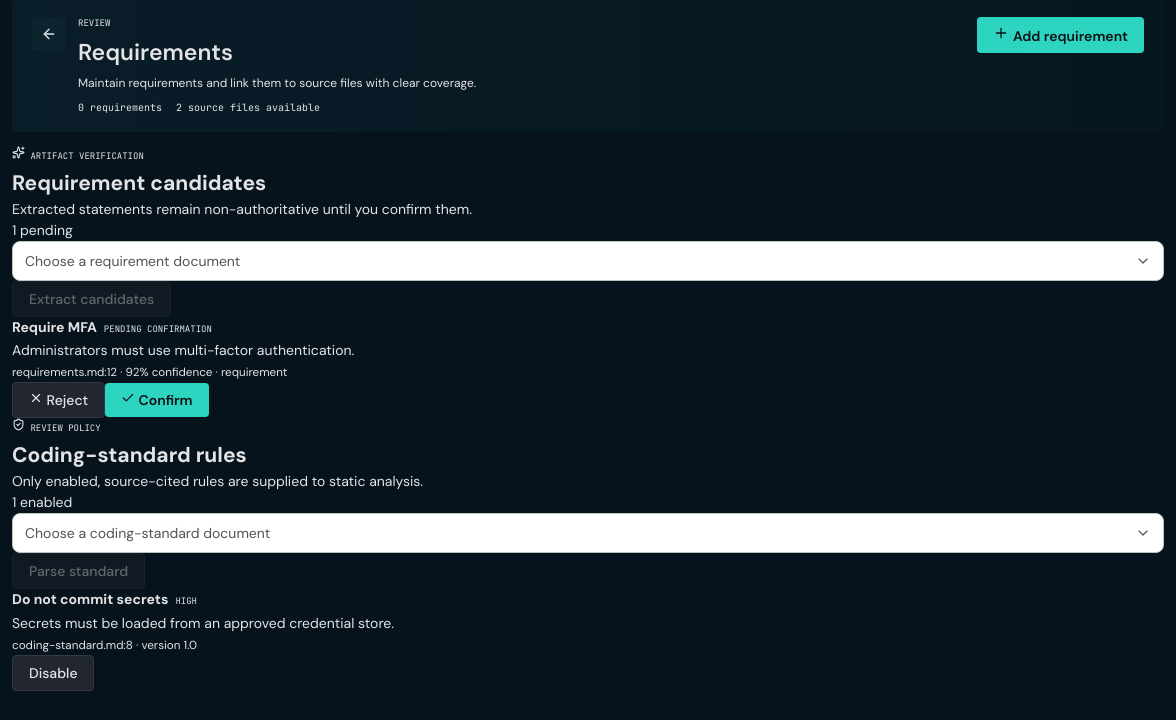
Test: RequirementsScreen grounding workspace › makes enabled coding standards visible and lets reviewers disable them
Expected: the text "Do not commit secrets" is shown, [12,590,168,608]
Expected: the text "1 enabled" is shown, [12,493,72,511]
Click the button "Disable" at (53, 672), box [12,654,94,690]
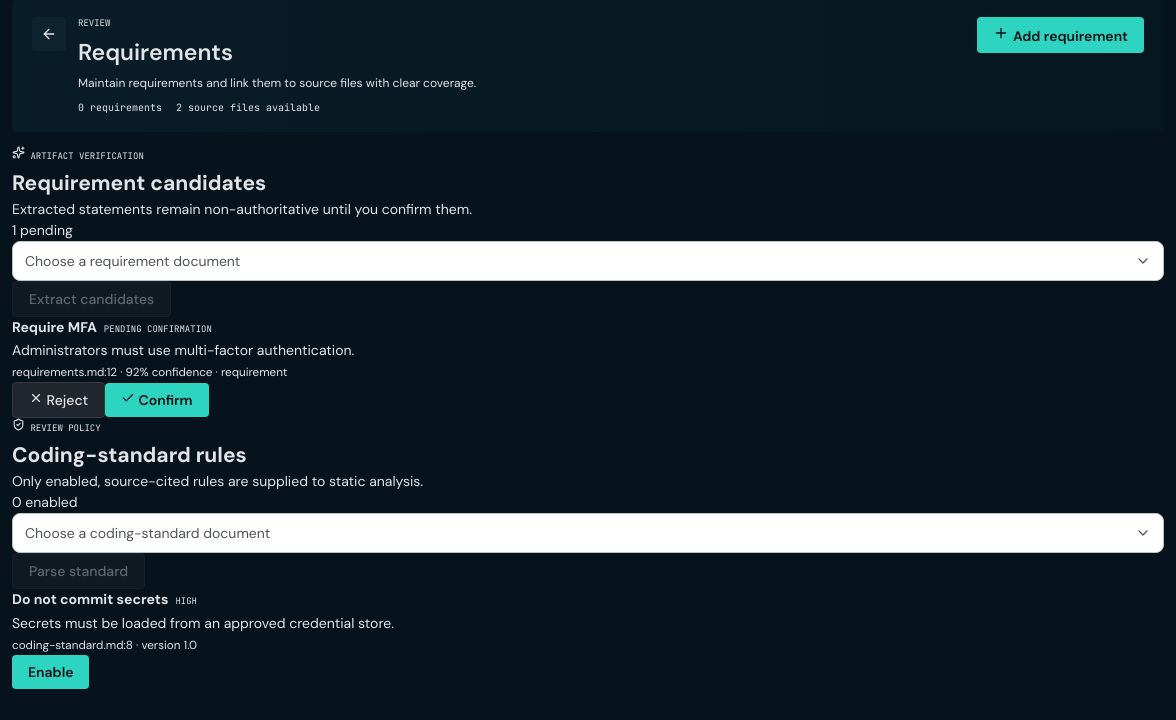
Expected: the button "Enable" is shown, [12,654,90,688]
